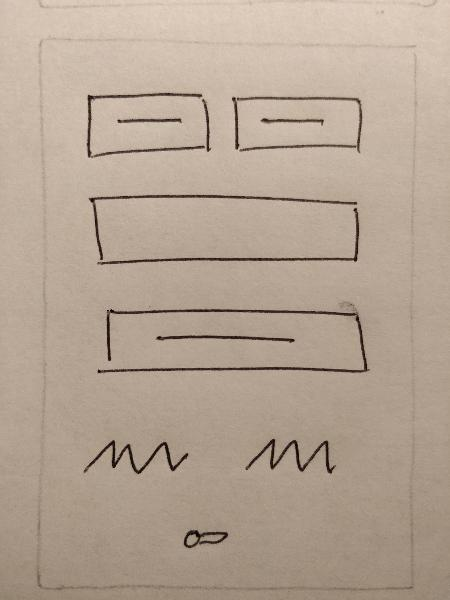button: (90, 300, 384, 381), (72, 83, 226, 164), (232, 88, 376, 160)
switch: (172, 517, 241, 553)
text: (68, 423, 203, 485), (240, 426, 343, 482)
text_input: (80, 191, 373, 272)
